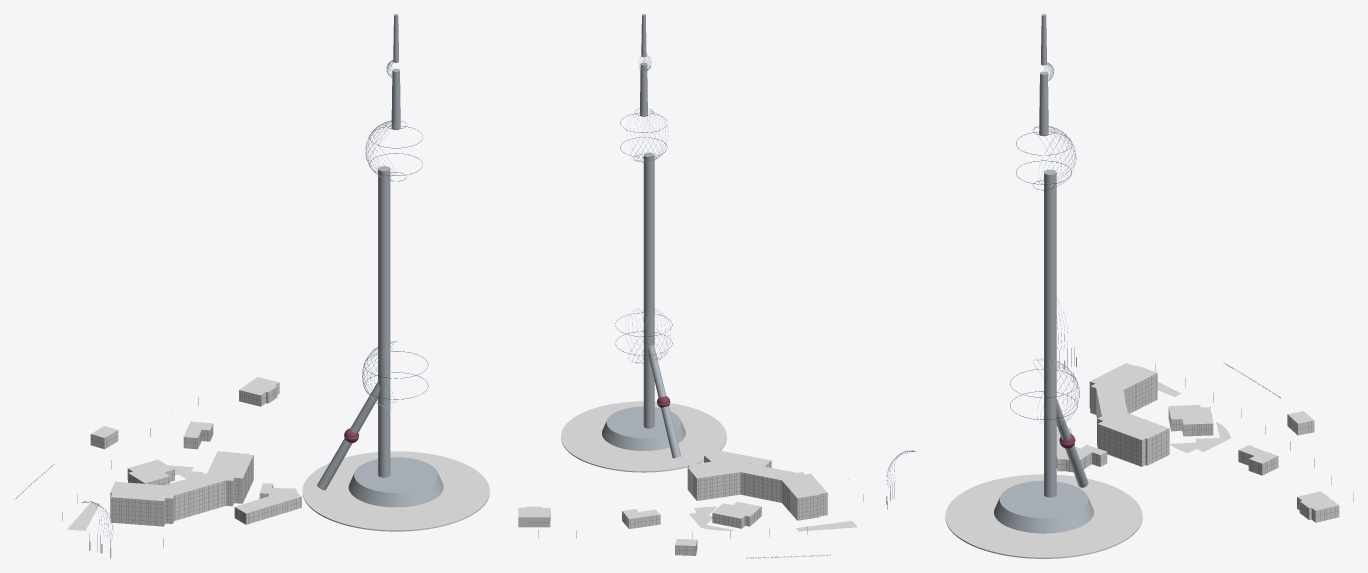
The picture shows the model from 3 angles, left to right: view 1: azimuth 30°, elevation 25°; view 2: azimuth 150°, elevation 25°; view 3: azimuth 270°, elevation 25°; orthographic projection. The views are drawn at different scales.
Visible parts, largest first — view 1: -1_0_珍珠白 · 混凝土, -1_0_滨江浅灰石材, -1_0_v02 米白石材, -1_0_v02 深灰屋面, -1_0_v02 铝合金幕墙框, -1_0_v02 草地; view 2: -1_0_珍珠白 · 混凝土, -1_0_滨江浅灰石材, -1_0_v02 米白石材, -1_0_v02 深灰屋面, -1_0_v02 铝合金幕墙框, -1_0_v02 草地; view 3: -1_0_珍珠白 · 混凝土, -1_0_滨江浅灰石材, -1_0_v02 米白石材, -1_0_v02 深灰屋面, -1_0_v02 铝合金幕墙框, -1_0_v02 草地.
Boxes of the visible parts, x1,y1,x2,y2 form: -1_0_珍珠白 · 混凝土: (317,14,443,507); -1_0_滨江浅灰石材: (302,451,489,531); -1_0_v02 米白石材: (90,382,301,526); -1_0_v02 深灰屋面: (91,377,301,513); -1_0_v02 铝合金幕墙框: (81,388,300,558); -1_0_v02 草地: (67,465,203,530); -1_0_珍珠白 · 混凝土: (602,14,685,458); -1_0_滨江浅灰石材: (561,401,726,472); -1_0_v02 米白石材: (518,455,827,555); -1_0_v02 深灰屋面: (518,450,826,545); -1_0_v02 铝合金幕墙框: (528,450,916,555); -1_0_v02 草地: (689,506,857,531); -1_0_珍珠白 · 混凝土: (994,14,1093,533); -1_0_滨江浅灰石材: (945,474,1142,558); -1_0_v02 米白石材: (1056,373,1339,522); -1_0_v02 深灰屋面: (1056,363,1338,510); -1_0_v02 铝合金幕墙框: (1056,298,1338,521); -1_0_v02 草地: (1157,382,1230,453).
Bounding box in the file's own units: 334 × 388 × 286.
